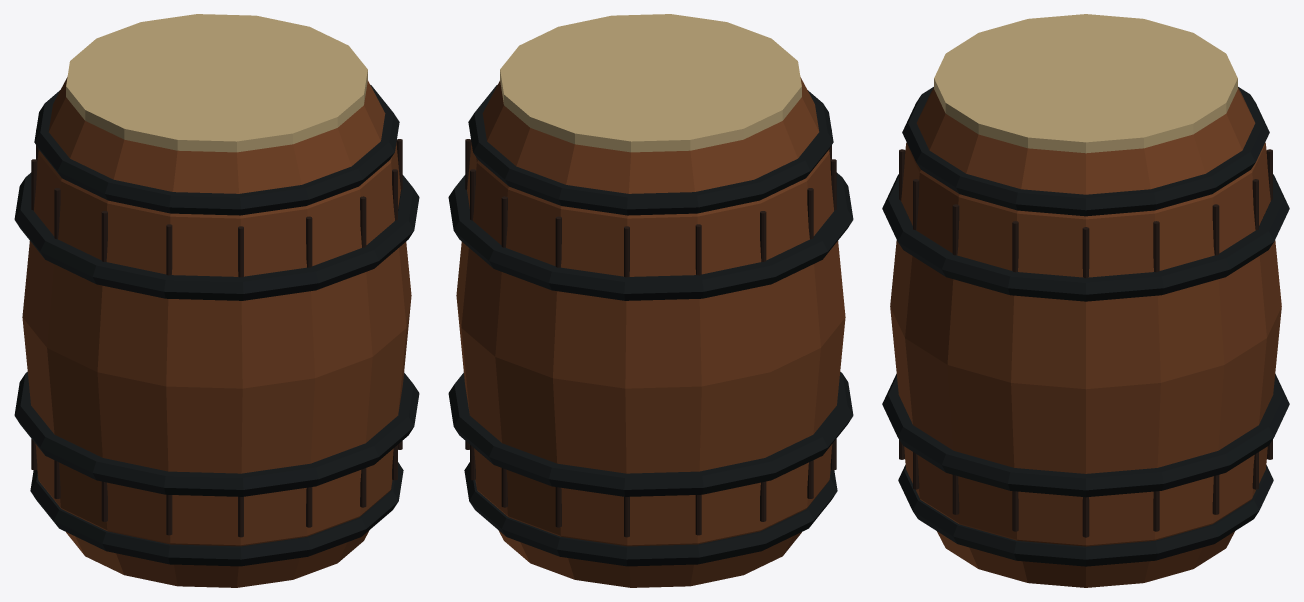
Rendered from barrel.glb.
The picture shows the model from 3 angles, left to right: view 1: azimuth 30°, elevation 25°; view 2: azimuth 150°, elevation 25°; view 3: azimuth 270°, elevation 25°; orthographic projection.
Visible parts, largest first — view 1: Coopered oak barrelMesh; view 2: Coopered oak barrelMesh; view 3: Coopered oak barrelMesh.
Part boxes in pixels (x1,y1,x2,y2): Coopered oak barrelMesh: [14, 14, 419, 587]; Coopered oak barrelMesh: [448, 14, 853, 587]; Coopered oak barrelMesh: [882, 14, 1289, 587].
Bounding box in the file's own units: 1.02 × 1.23 × 1.02.
